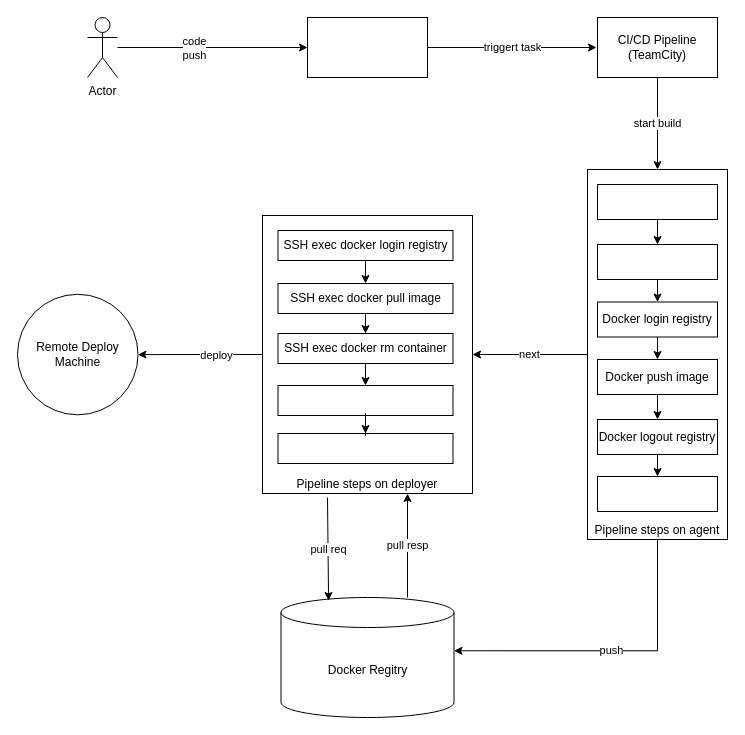
This 745x735 diagram has some shape labels left out. The shapes that lost their labels are listed below. From the top down, each one's box as (x1, y1, x2, y2) in pixels, then its label:
(306, 16, 428, 78): VCS (Gogs)
(596, 184, 718, 220): CVS checkout
(596, 244, 718, 280): Docker build image
(277, 384, 453, 416): SSH exec docker run container
(277, 432, 453, 464): SSH exec docker logout registry
(596, 476, 718, 512): Docker image clean
